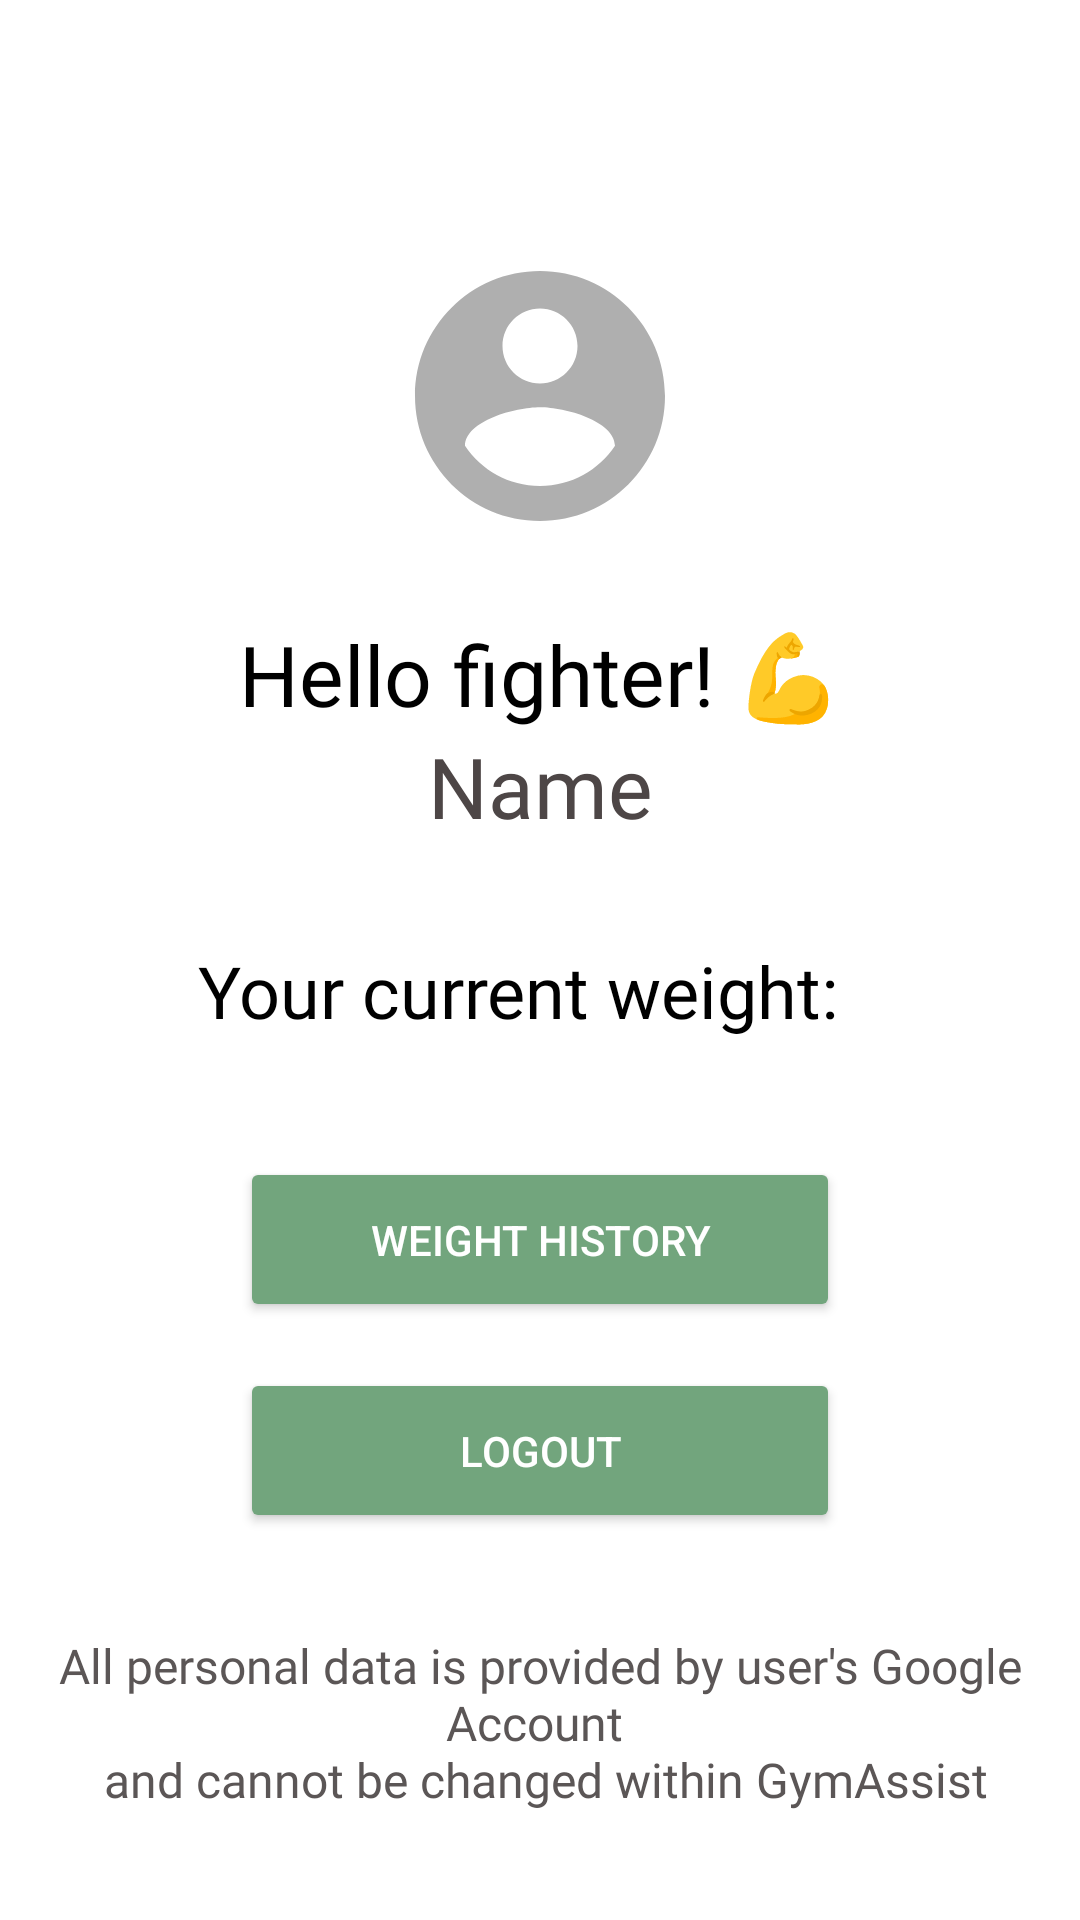

Where to tap for icons on this 1080px x 1920px app screen, as (x,y):
profile image: (540,396)
